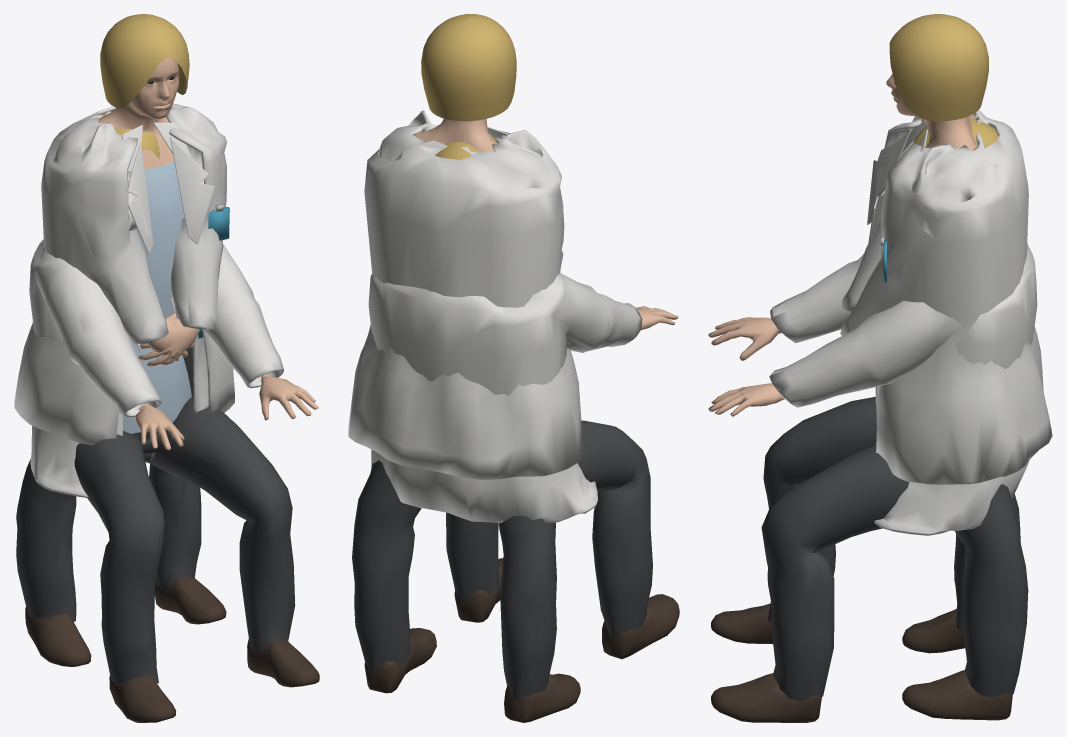
Rendered from doctor-07-middle.glb.
3 renders of one model, left to right at view 1: azimuth 30°, elevation 25°; view 2: azimuth 150°, elevation 25°; view 3: azimuth 270°, elevation 25°, orthographic. The views are drawn at different scales.
Parts seen in each view (by area): view 1: Doctor anatomy and wardrobe.001, Doctor anatomy and wardrobe.003; view 2: Doctor anatomy and wardrobe.001, Doctor anatomy and wardrobe.003; view 3: Doctor anatomy and wardrobe.001, Doctor anatomy and wardrobe.003.
Part boxes in pixels (x1=…): Doctor anatomy and wardrobe.001: x1=14, y1=14, x2=234, y2=666; Doctor anatomy and wardrobe.003: x1=29, y1=113, x2=319, y2=722; Doctor anatomy and wardrobe.001: x1=348, y1=14, x2=582, y2=722; Doctor anatomy and wardrobe.003: x1=368, y1=135, x2=679, y2=659; Doctor anatomy and wardrobe.001: x1=840, y1=14, x2=1052, y2=720; Doctor anatomy and wardrobe.003: x1=708, y1=119, x2=1037, y2=722.
Bounding box in the file's own units: 0.5816 × 1.71 × 0.7967.
